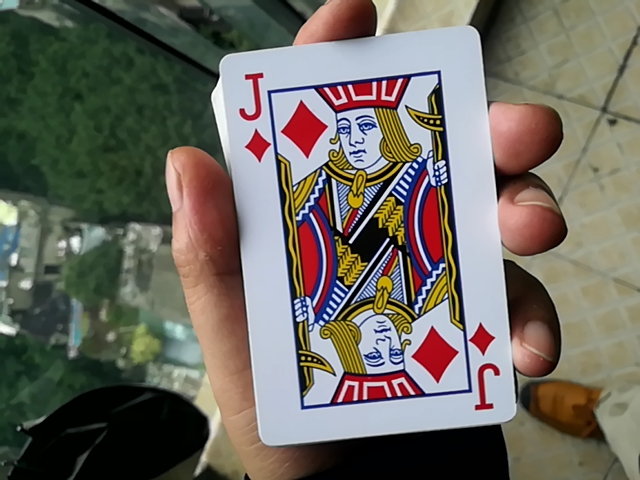fk j: (195, 35, 521, 437)
